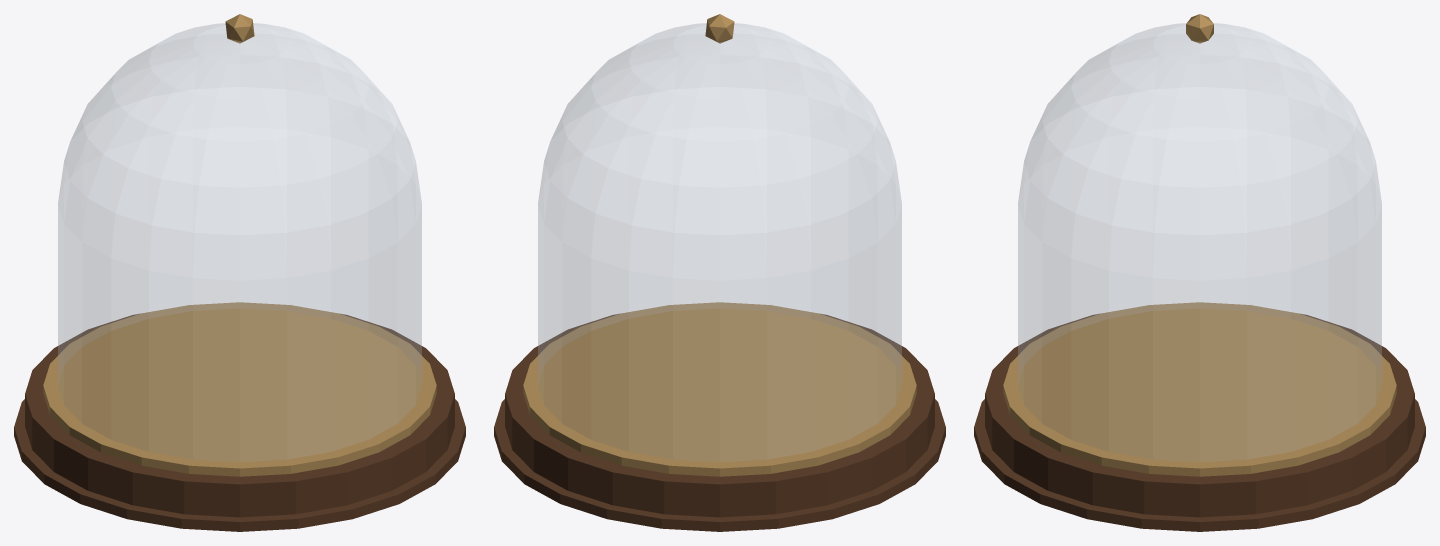
Rendered from terrarium_jar.glb.
The picture shows the model from 3 angles, left to right: view 1: azimuth 30°, elevation 25°; view 2: azimuth 150°, elevation 25°; view 3: azimuth 270°, elevation 25°; orthographic projection.
Parts seen in each view (by area): view 1: Glass, Ring, Plinth, PlinthLip, Knob; view 2: Glass, Ring, Plinth, PlinthLip, Knob; view 3: Glass, Ring, Plinth, PlinthLip, Knob.
Boxes of the visible parts, left/top/right/bottom form: Glass: left=58, top=23, right=421, bottom=461; Ring: left=43, top=302, right=436, bottom=476; Plinth: left=25, top=313, right=454, bottom=517; PlinthLip: left=14, top=399, right=465, bottom=531; Knob: left=225, top=14, right=254, bottom=43; Glass: left=538, top=23, right=901, bottom=461; Ring: left=523, top=302, right=916, bottom=476; Plinth: left=505, top=313, right=934, bottom=517; PlinthLip: left=494, top=399, right=945, bottom=531; Knob: left=705, top=14, right=734, bottom=43; Glass: left=1018, top=23, right=1381, bottom=461; Ring: left=1003, top=302, right=1396, bottom=476; Plinth: left=985, top=313, right=1414, bottom=517; PlinthLip: left=974, top=399, right=1425, bottom=531; Knob: left=1186, top=14, right=1213, bottom=43.
Bounding box in the file's own units: 2.48 × 2.56 × 2.48.
